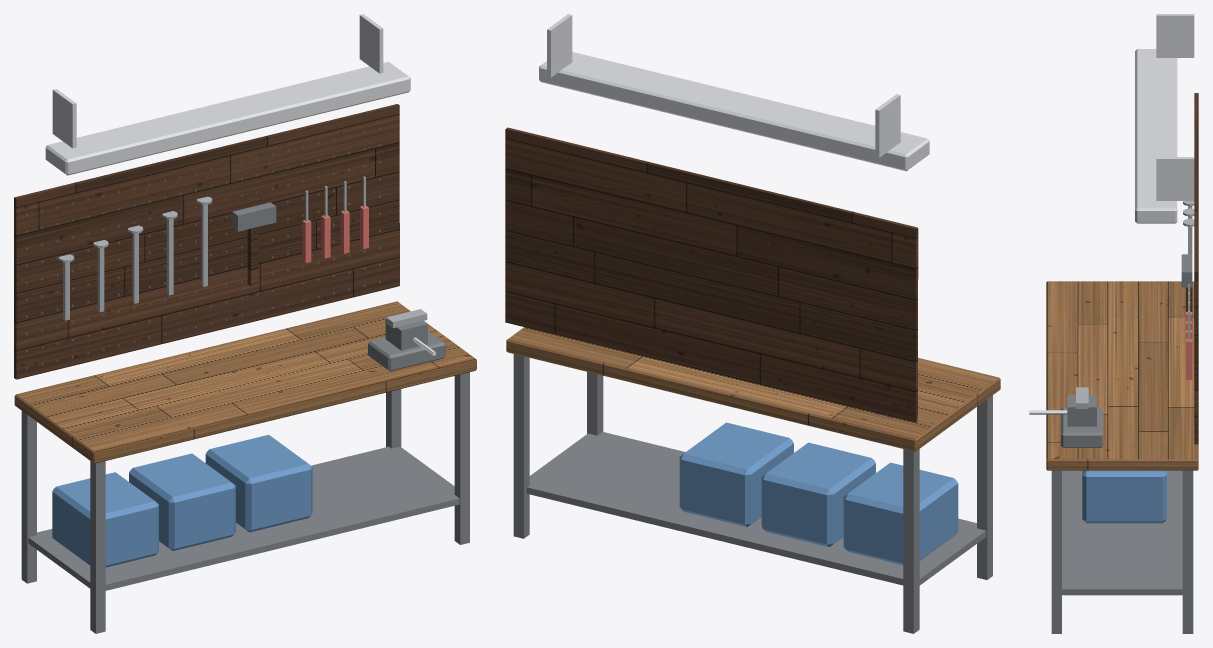
The model's file is workbench.glb.
3 renders of one model, left to right at view 1: azimuth 30°, elevation 25°; view 2: azimuth 150°, elevation 25°; view 3: azimuth 270°, elevation 25°, orthographic. The views are drawn at different scales.
Visible parts, largest first — view 1: workbench_dkwood, workbench_wood, workbench_steel_d, workbench_drum_b, workbench_metal, workbench_steel, workbench_tool_r, workbench_dark; view 2: workbench_dkwood, workbench_steel_d, workbench_drum_b, workbench_wood, workbench_metal; view 3: workbench_wood, workbench_steel_d, workbench_metal, workbench_drum_b, workbench_dkwood, workbench_steel, workbench_tool_r.
Part boxes in pixels (box(x1,y1,x2,y2)): workbench_dkwood: box(14, 104, 399, 379); workbench_wood: box(14, 301, 476, 463); workbench_steel_d: box(21, 202, 469, 633); workbench_drum_b: box(52, 434, 312, 567); workbench_metal: box(45, 14, 410, 175); workbench_steel: box(59, 176, 427, 327); workbench_tool_r: box(302, 206, 368, 263); workbench_dark: box(26, 127, 380, 369); workbench_dkwood: box(505, 127, 918, 422); workbench_steel_d: box(513, 354, 992, 633); workbench_drum_b: box(679, 422, 958, 564); workbench_wood: box(506, 327, 1000, 451); workbench_metal: box(539, 14, 929, 171); workbench_wood: box(1046, 281, 1198, 470); workbench_steel_d: box(1051, 254, 1193, 633); workbench_metal: box(1135, 14, 1194, 223); workbench_drum_b: box(1082, 470, 1166, 523); workbench_dkwood: box(1186, 93, 1198, 444); workbench_steel: box(1076, 201, 1194, 408); workbench_tool_r: box(1186, 312, 1192, 379).
Size of the model in its own units: 2 by 2.4 by 0.8.
10 materials, 2 textured.
